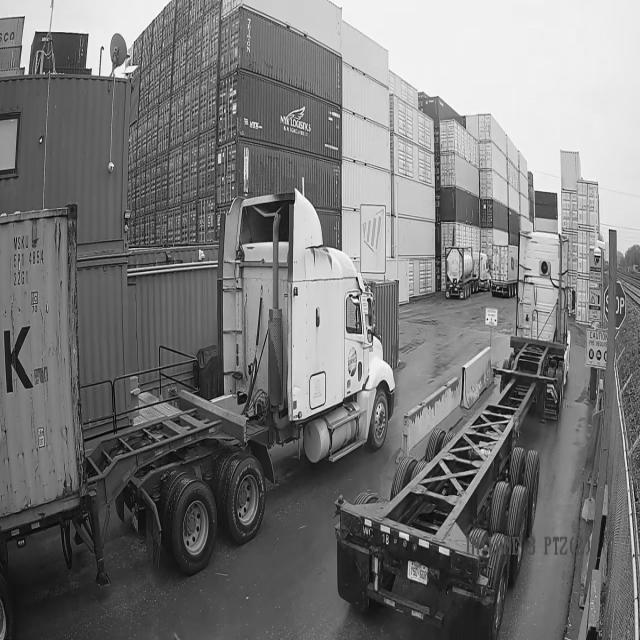container_number: (9, 228, 47, 290)
license_plate: (405, 558, 432, 588)
truck_company: (348, 348, 356, 374)
truck_with_container: (0, 190, 395, 639)
truck_without_container: (335, 232, 570, 639)
